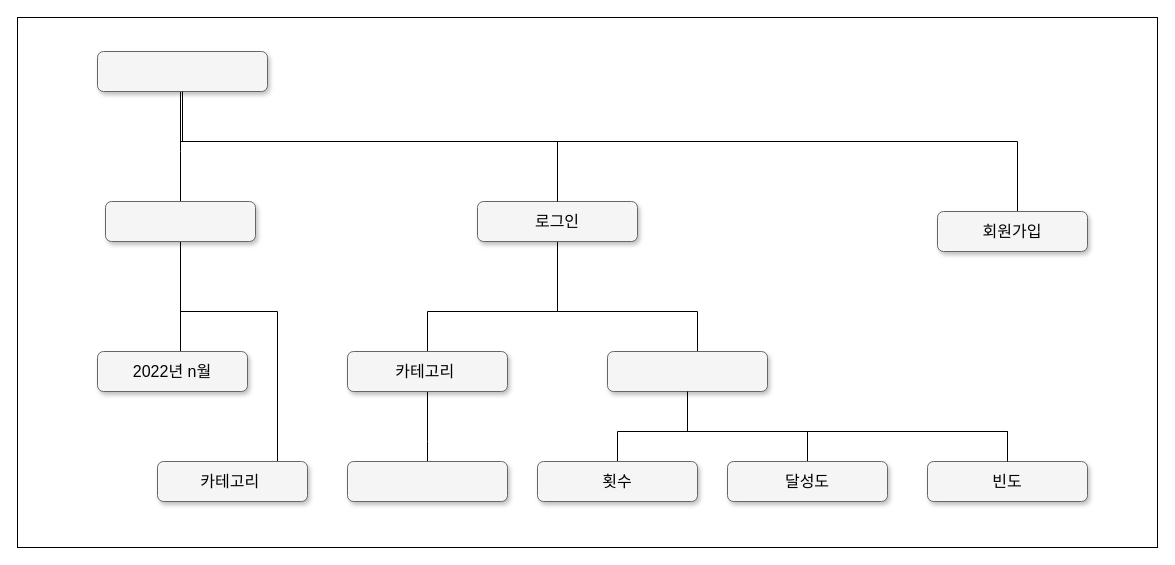
Image size: 1175x565. Some labels were removed from this diagram. Each missing label, with the centre of its shape:
Carbon Program: point (181, 222)
Carbon 탄소: point (183, 72)
total: point (688, 372)
글쓰기: point (428, 482)
